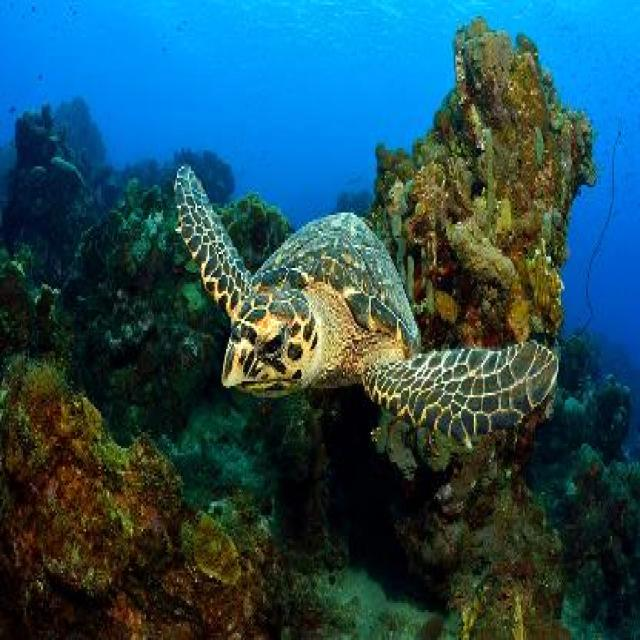Sea turtle: (167, 162, 561, 440)
